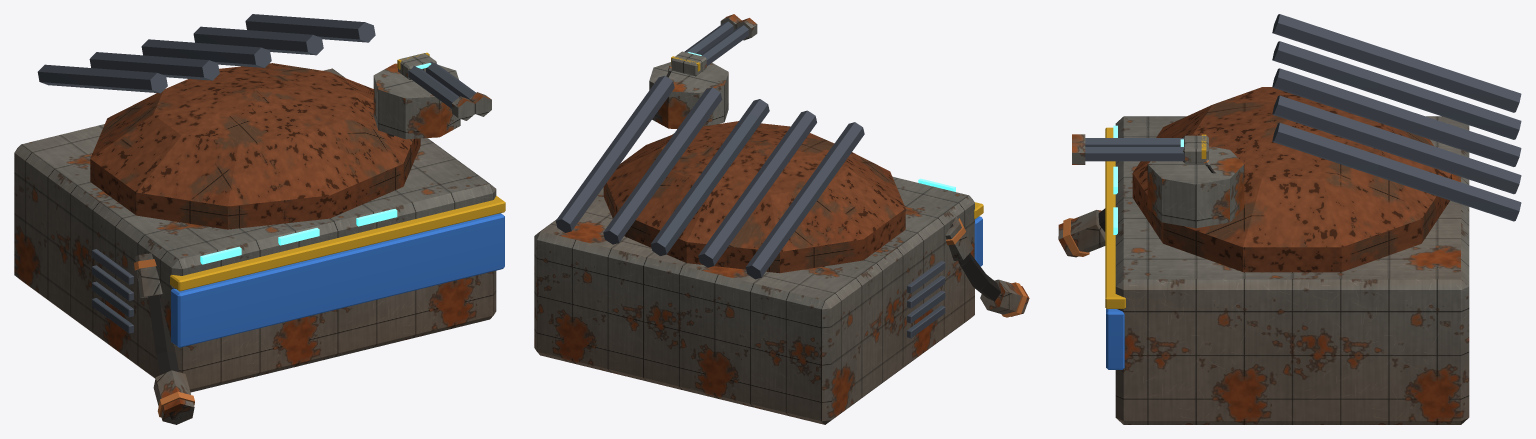
The model's file is armement.glb.
3 views of the same model, side by side, from view 1: azimuth 30°, elevation 25°; view 2: azimuth 150°, elevation 25°; view 3: azimuth 270°, elevation 25° (orthographic). The views are drawn at different scales.
Visible parts, largest first — view 1: armement; view 2: armement; view 3: armement.
Boxes of the visible parts, x1,y1,x2,y2 form: armement: (14,14,505,424); armement: (534,14,1029,424); armement: (1058,14,1521,424).
Size of the model in its own units: 2.77 by 1.94 by 2.88.
Materials: 8 (2 with a texture image).
